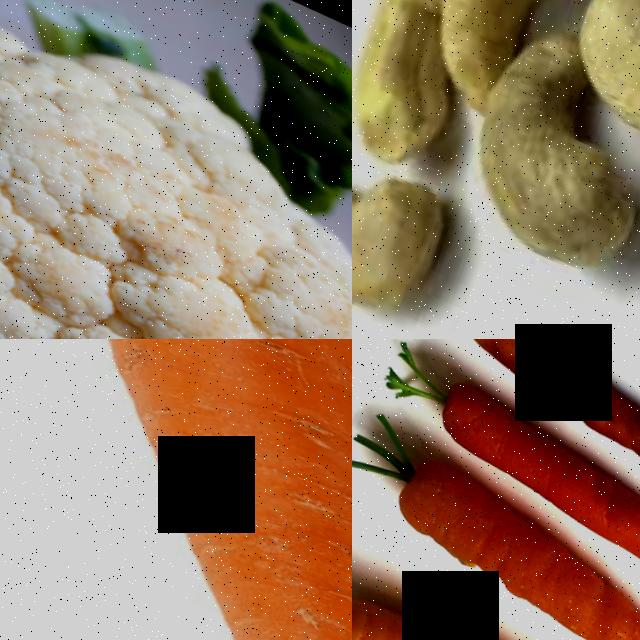carrot: (0, 339, 352, 640), (389, 378, 640, 616), (352, 444, 640, 640), (412, 339, 640, 537), (352, 550, 640, 640)
cashew: (429, 64, 640, 307), (392, 0, 604, 115), (352, 125, 464, 339), (352, 0, 485, 147), (547, 0, 640, 206)
cauliflower: (0, 0, 352, 339)
